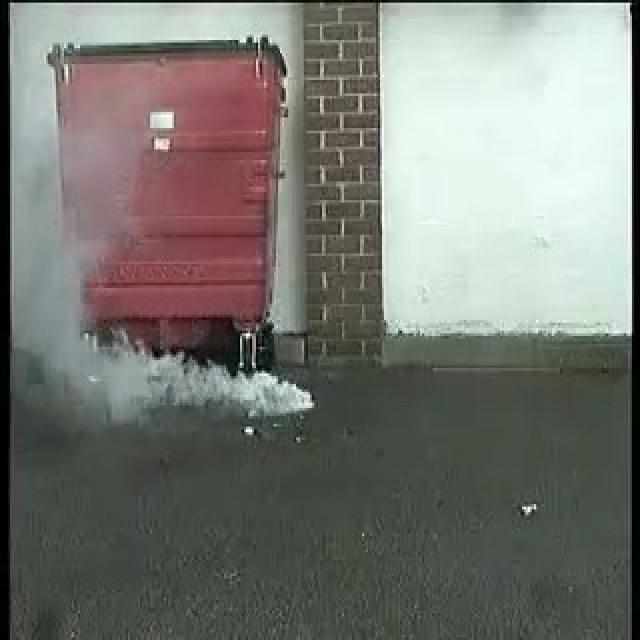smoke: (96, 340, 314, 420)
